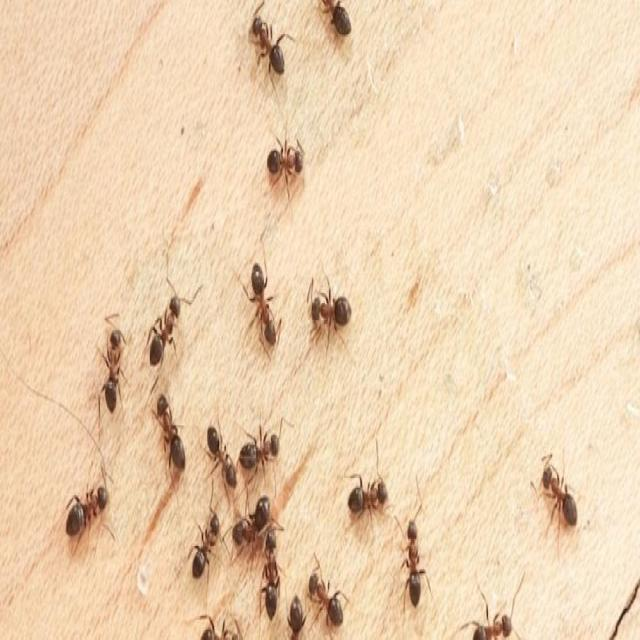ants: (238, 242, 283, 358), (535, 447, 584, 548), (66, 472, 116, 550), (248, 11, 291, 96), (400, 516, 432, 626), (343, 457, 391, 530), (304, 562, 351, 634), (230, 482, 278, 552), (100, 315, 132, 420), (147, 288, 188, 369), (190, 494, 227, 583), (311, 280, 358, 350), (154, 390, 188, 478), (233, 416, 284, 474), (265, 131, 311, 188), (260, 518, 284, 625), (204, 422, 238, 497), (458, 601, 522, 640)
